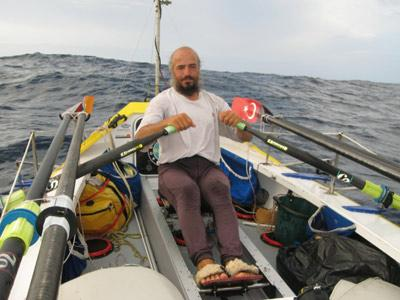person: (135, 47, 263, 286)
